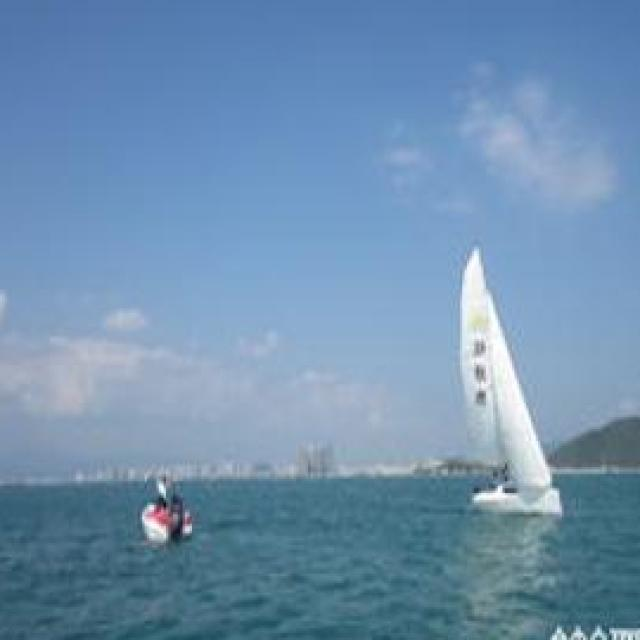sailboat: (415, 263, 610, 521), (110, 460, 199, 556)
